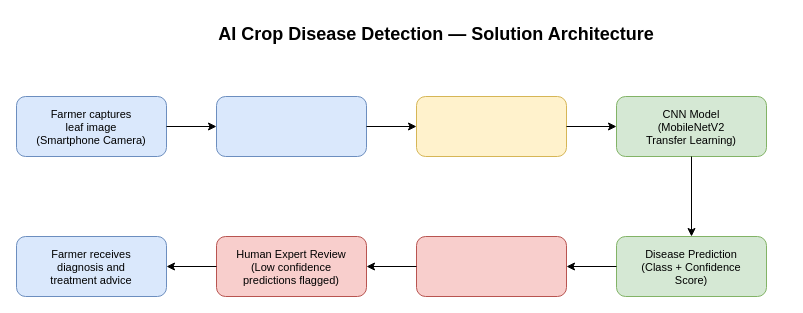
Image size: 803x313. Some labels were removed from this diagram. The shapes that lost their labels are listed below. From the top down, each one's centre as x and y in pixels, then its label:
At (291,126): "Mobile Application (Image Upload Interface)".
At (491,126): "Image Preprocessing (Resize to 224x224 Normalize pixels)".
At (491,266): "Treatment Recommendation (Pesticide / Action)".
